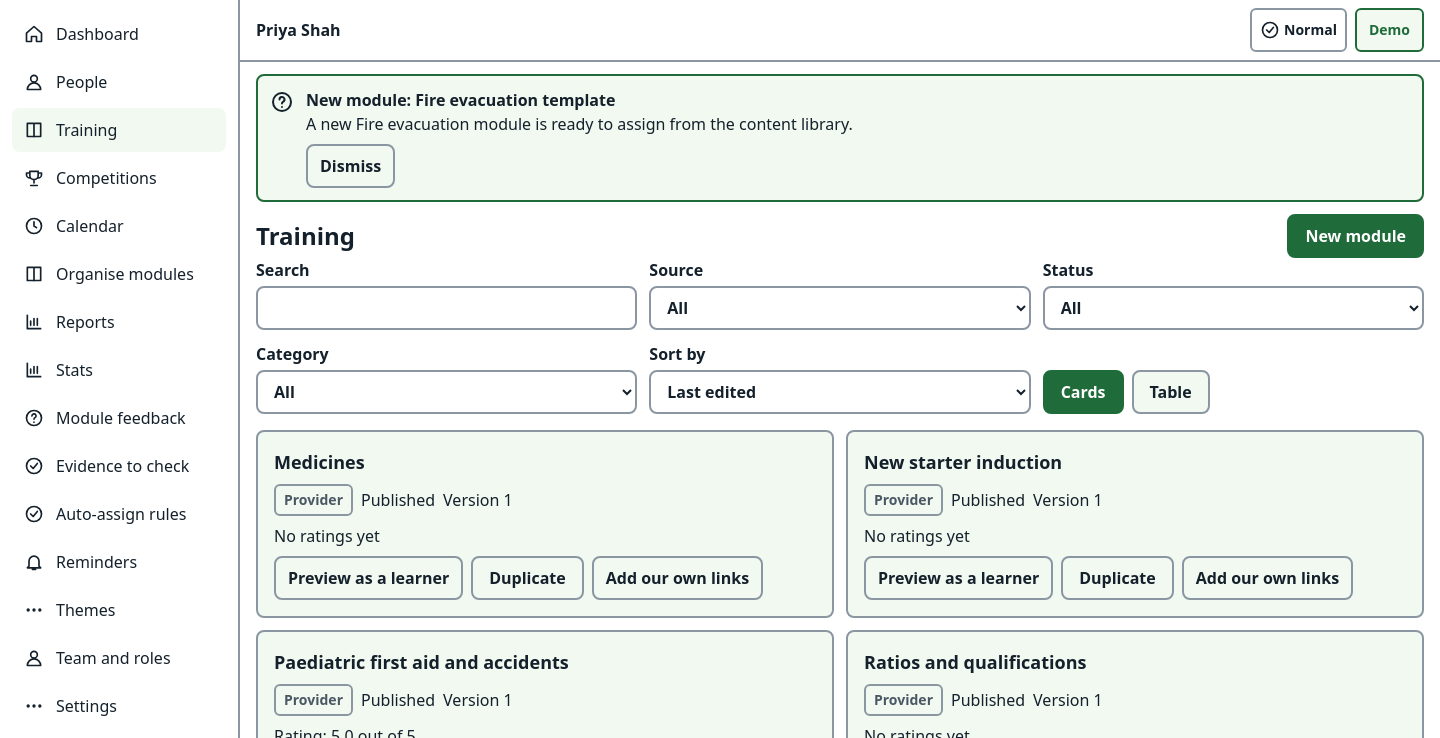
C6 Module Library › switches between cards and a table showing the same modules
The image size is (1440, 738).
Click the button "Table": (1171, 392) top-left (1132, 370), bottom-right (1210, 414)
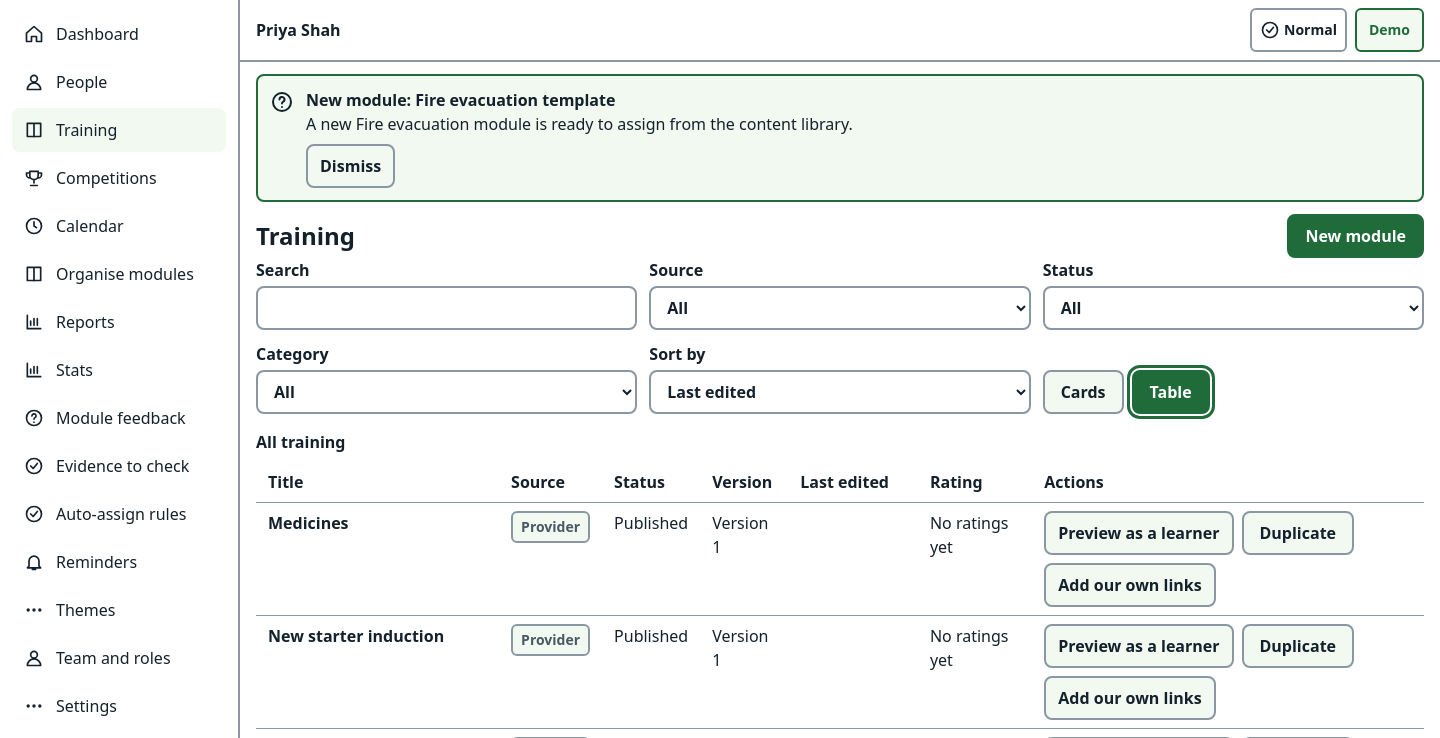
Result: the number of rows with test id "module-item" is 14
Click the button "Cards": (1083, 392) top-left (1043, 370), bottom-right (1124, 414)
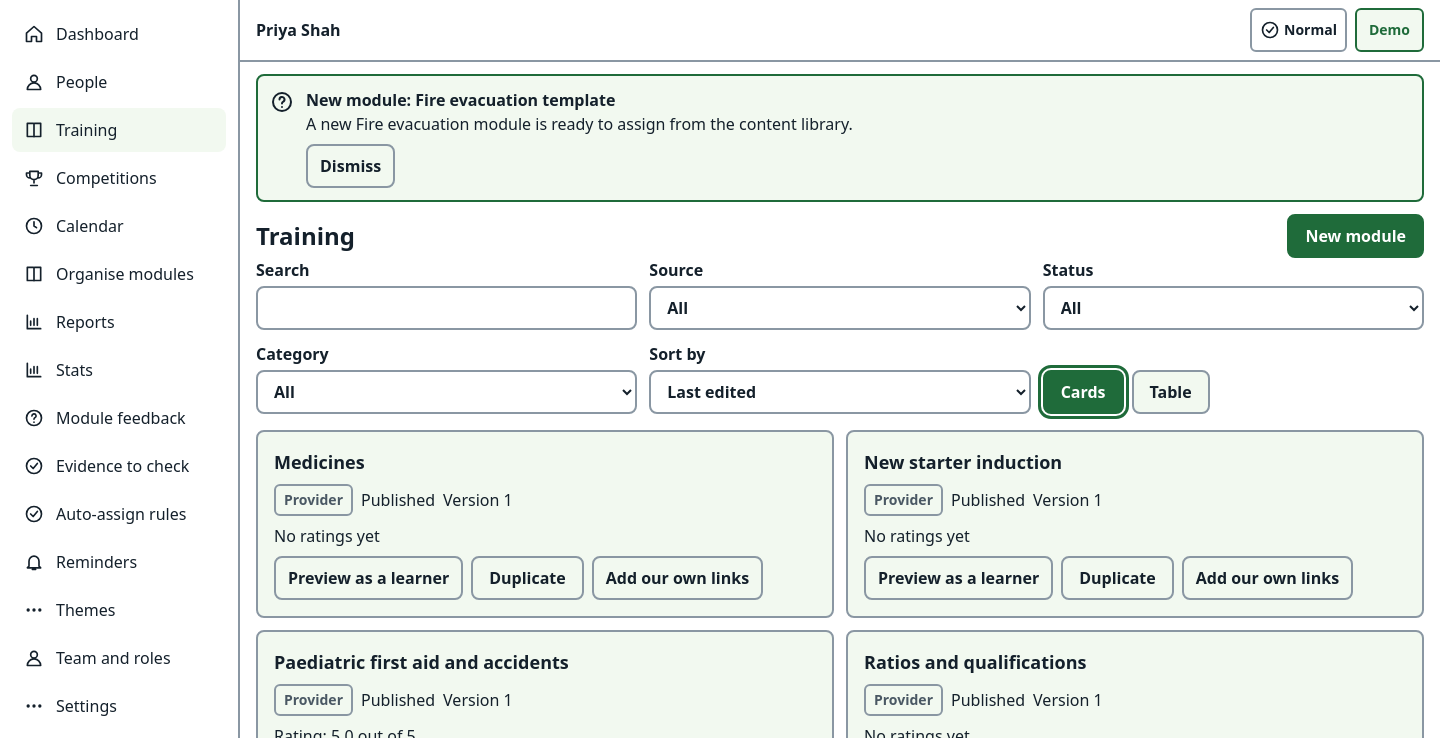
Result: the number of list items with test id "module-item" is 14
